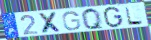2: (19, 14, 41, 36)
G: (103, 6, 124, 28), (61, 10, 82, 31)
L: (124, 6, 145, 26)
Q: (81, 8, 106, 31)
X: (37, 11, 63, 34)
